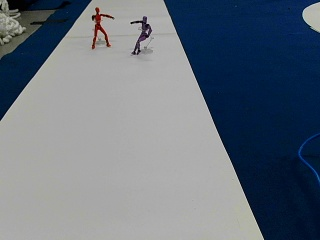pedestrian: (91, 7, 115, 49), (129, 15, 151, 54)
